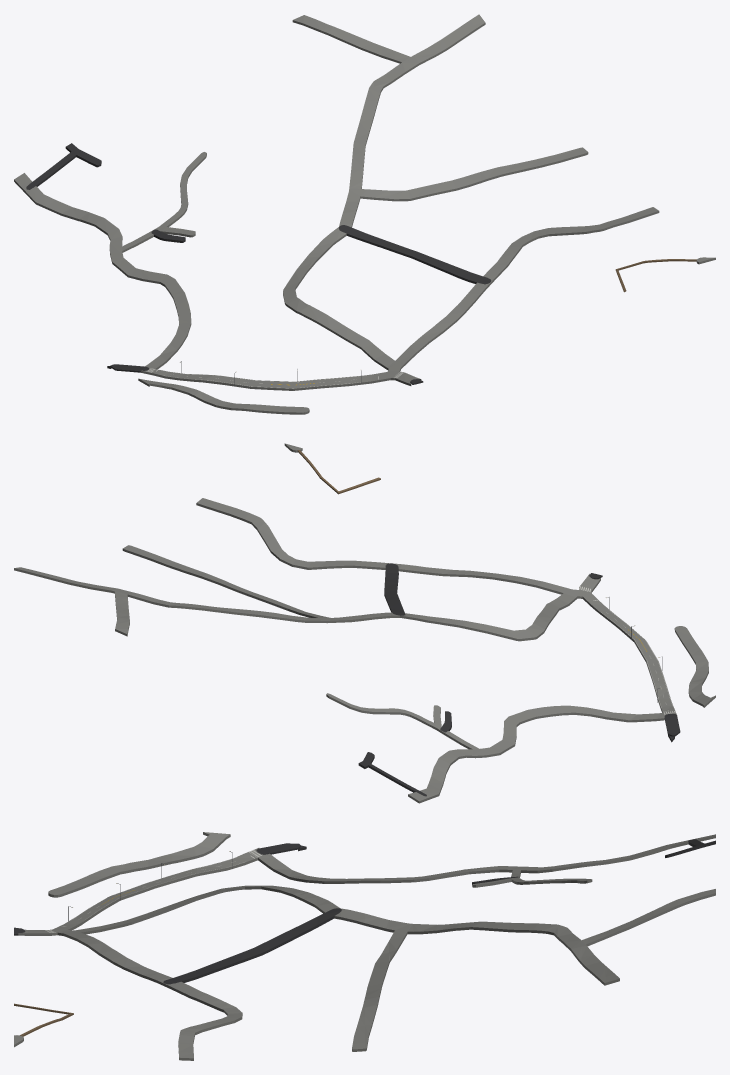
The picture shows the model from 3 angles, top to bottom: view 1: azimuth 30°, elevation 25°; view 2: azimuth 150°, elevation 25°; view 3: azimuth 270°, elevation 25°; orthographic projection. The views are drawn at different scales.
Size of the model in its own units: 293 by 79.67 by 292.
